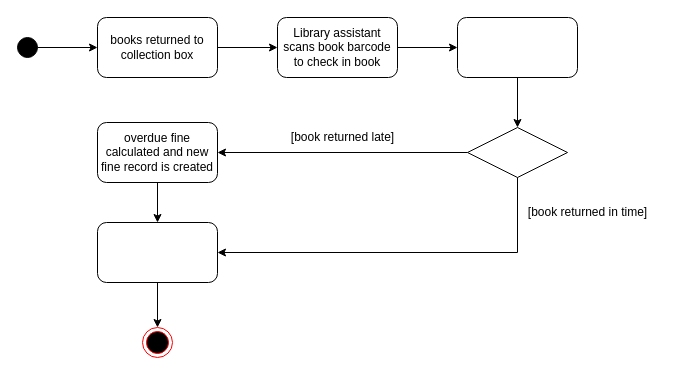
Image size: 675x375. Some labels were removed from this diagram. Each missing label, with the box of its shape:
system display "Check in Finish": (96, 222, 218, 282)
system displays book detail and due date: (456, 16, 578, 78)
